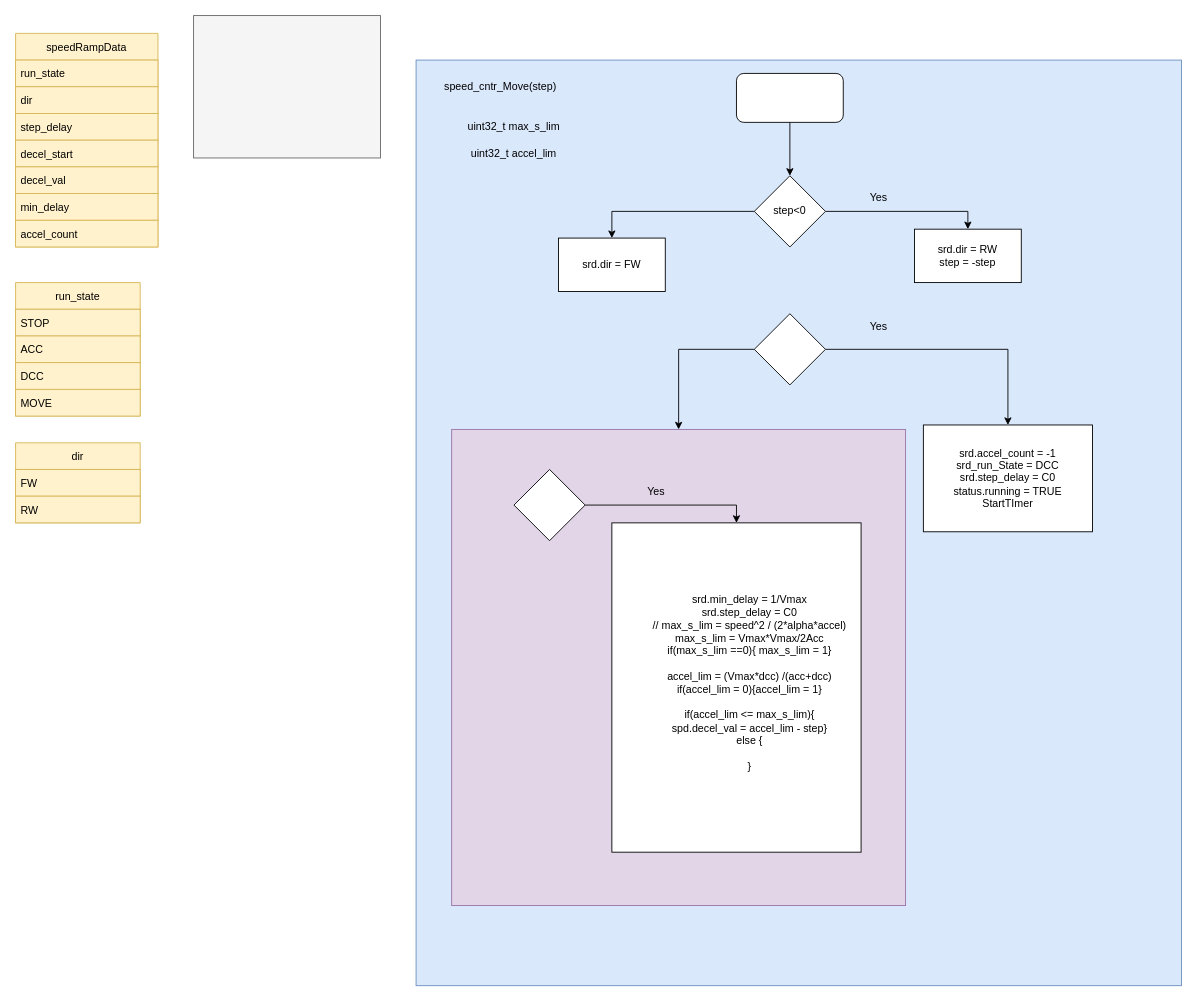
Some shapes in this 1197 by 1001 pixel diagram are drawn without their labels. Here are the shapes that lost their labels. From the top down, the centre of each, then its label:
At pixel 286 86: "speedRampData spd".
At pixel 789 97: "Step".
At pixel 789 349: "step==1".
At pixel 549 505: "step!=0".
